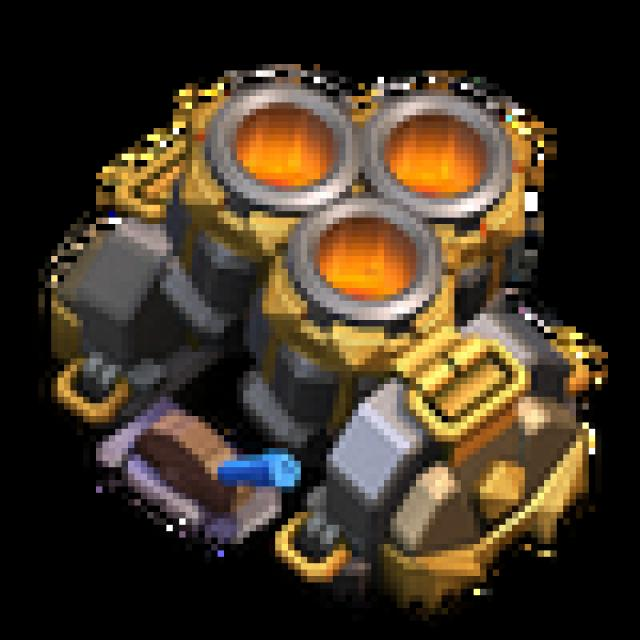mortar: (39, 13, 607, 628)
